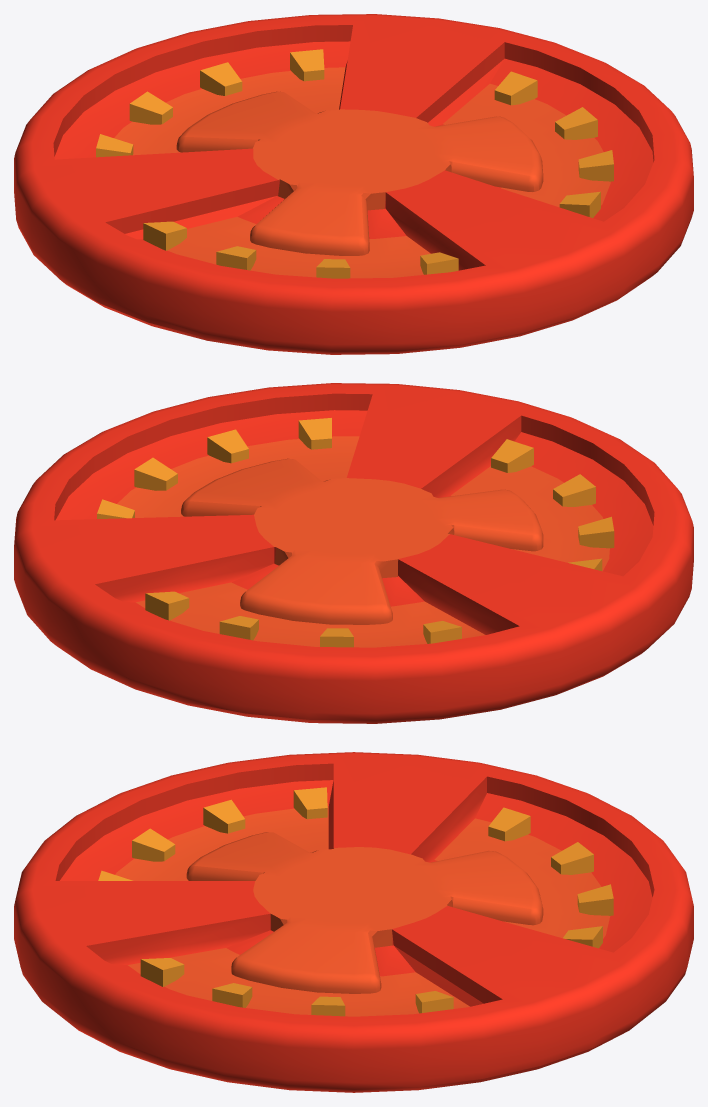
File: tomato_slice.fbx
3 views of the same model, one above another, from view 1: azimuth 30°, elevation 25°; view 2: azimuth 150°, elevation 25°; view 3: azimuth 270°, elevation 25° (orthographic).
Visible parts, largest first — view 1: pCube22; view 2: pCube22; view 3: pCube22.
Boxes of the visible parts, <box> form: pCube22: <box>14,14,693,354</box>; pCube22: <box>14,383,693,723</box>; pCube22: <box>14,752,693,1092</box>.
Bounding box in the file's own units: 19.97 × 2.12 × 19.97.
